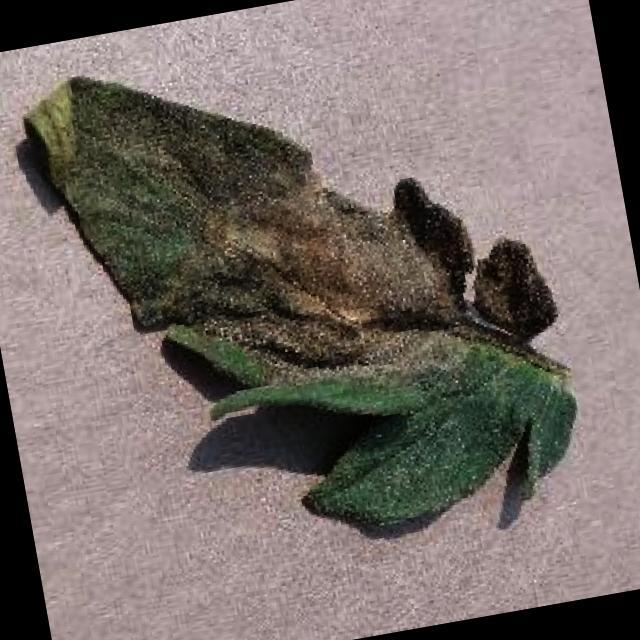Tomato late blight leaf: (16, 1, 592, 578)
